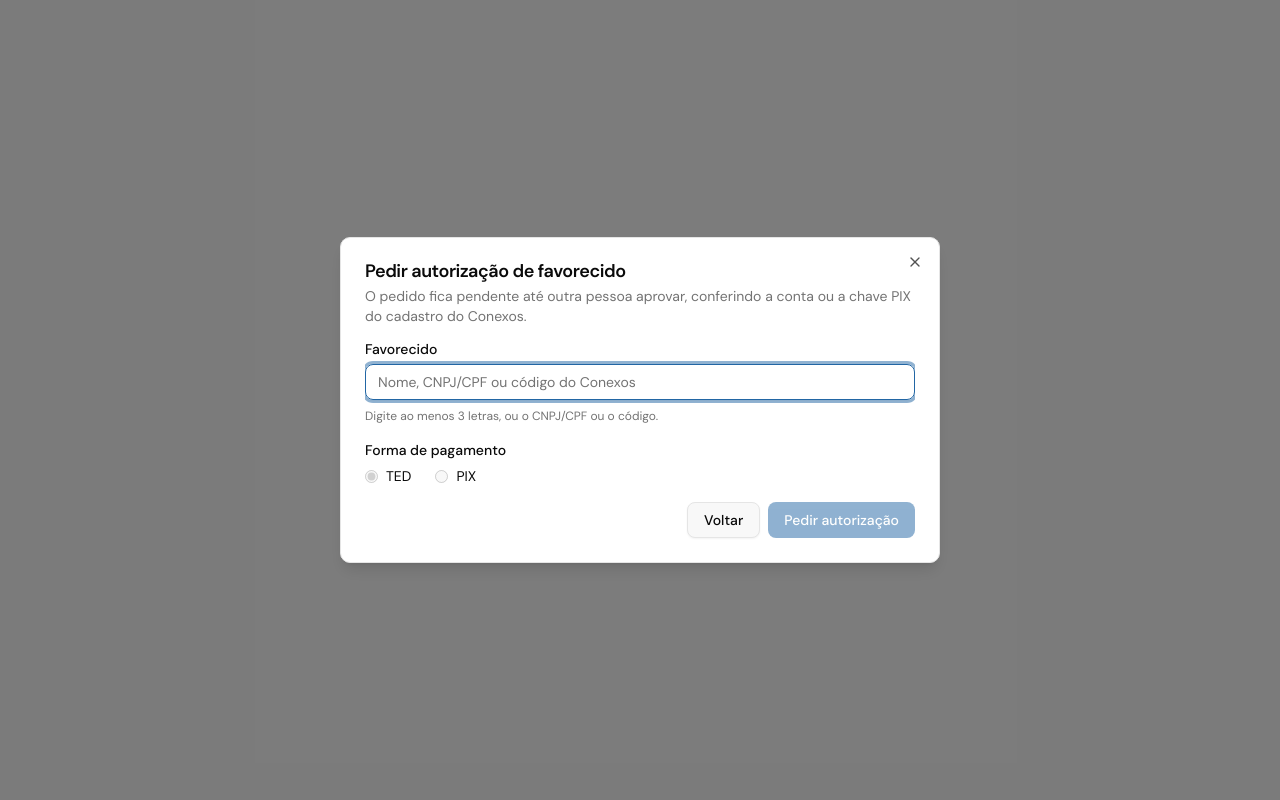
SolicitarAutorizacaoDialog — busca no Conexos › "Trocar" volta à lista do mesmo termo sem buscar de novo
Step 1. Type "beta" into the search field labelled "Favorecido" → (640, 382), box x1=365 y1=364 x2=915 y2=400
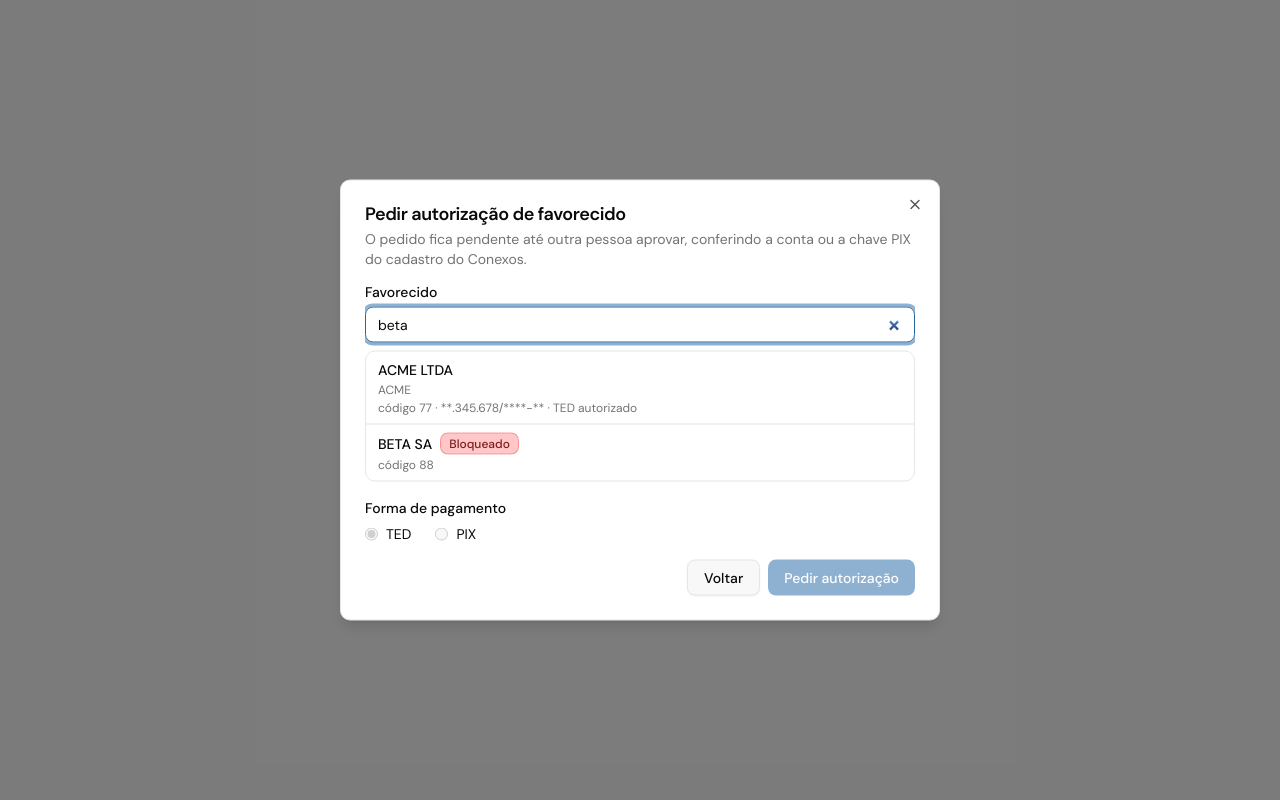
Step 2. Click the button with aria-label "escolher BETA SA" → (405, 444), box x1=366 y1=424 x2=914 y2=480
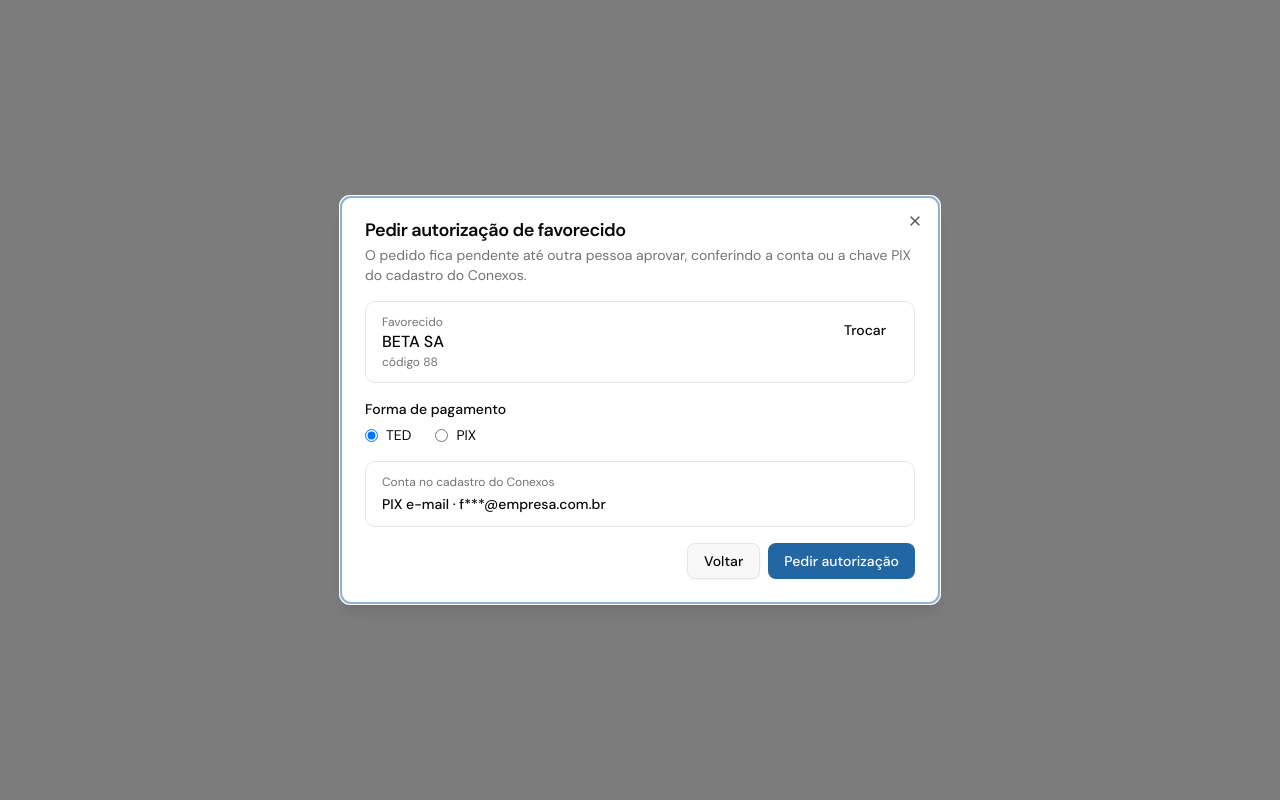
Step 3. Click the button "Trocar" → (865, 330), box x1=832 y1=314 x2=898 y2=346
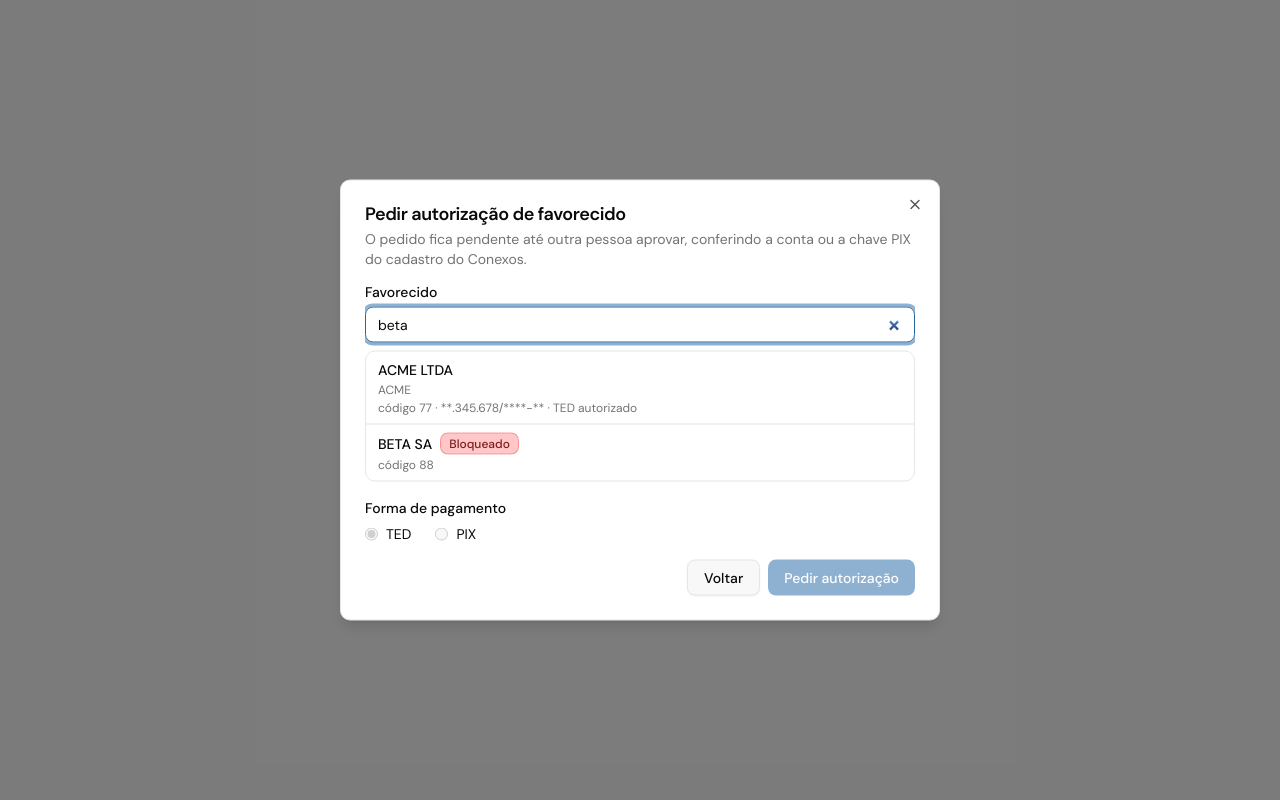
Result: the button with aria-label "escolher BETA SA" is shown at x1=366 y1=424 x2=914 y2=480
